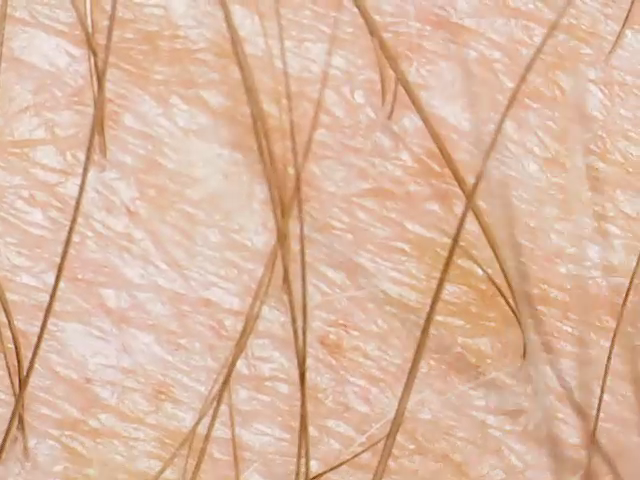folicle: (89, 149, 122, 173), (600, 44, 622, 73), (511, 344, 534, 370), (275, 279, 299, 302), (17, 451, 38, 471), (381, 112, 401, 130), (371, 95, 391, 113)
